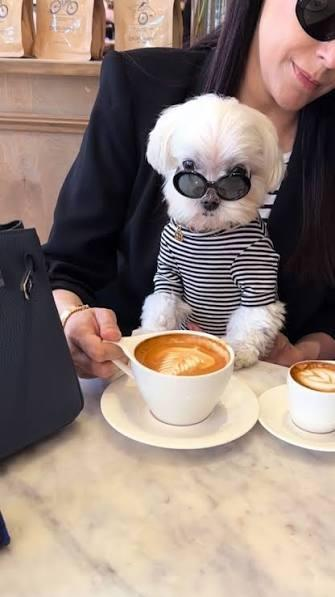adult_dog: (137, 94, 286, 370)
